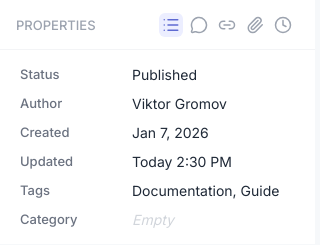
Test case: RightSidebar › switches tabs when clicked
# Click on Comments tab
What coordinates should you click on to do the following:
click the button named "COMMENTS"
I would click on:
 (199, 24)
Its box is [187,12,211,36].
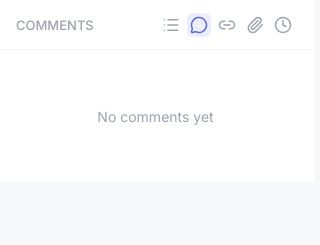
Expected: the text "No comments yet" is shown, [97,108,214,124]
# Click on Links tab
What coordinates should you click on to do the following:
click the button named "LINKS"
I would click on:
 (227, 24)
Its box is [215,12,239,36].
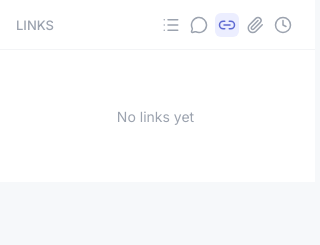
Expected: the text "No links yet" is shown, [117,108,194,124]
# Click on Files tab
What coordinates should you click on to do the following:
click the button named "FILES"
I would click on:
 (255, 24)
Its box is [243,12,267,36].
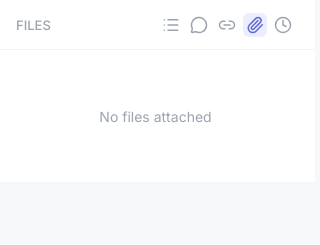
Expected: the text "No files attached" is shown, [99,108,212,124]
# Click on History tab
What coordinates should you click on to do the following:
click the button named "HISTORY"
I would click on:
 (283, 24)
Its box is [271,12,295,36].
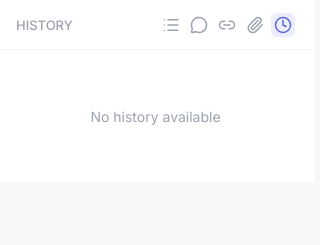
Expected: the text "No history available" is shown, [90,108,221,124]
# Click back to Properties
What coordinates should you click on to do the following:
click the button named "PROPERTIES"
I would click on:
 (171, 24)
Its box is [159,12,183,36].
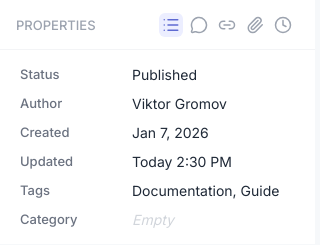
Expected: the text "Status" is shown, [20,66,60,82]
